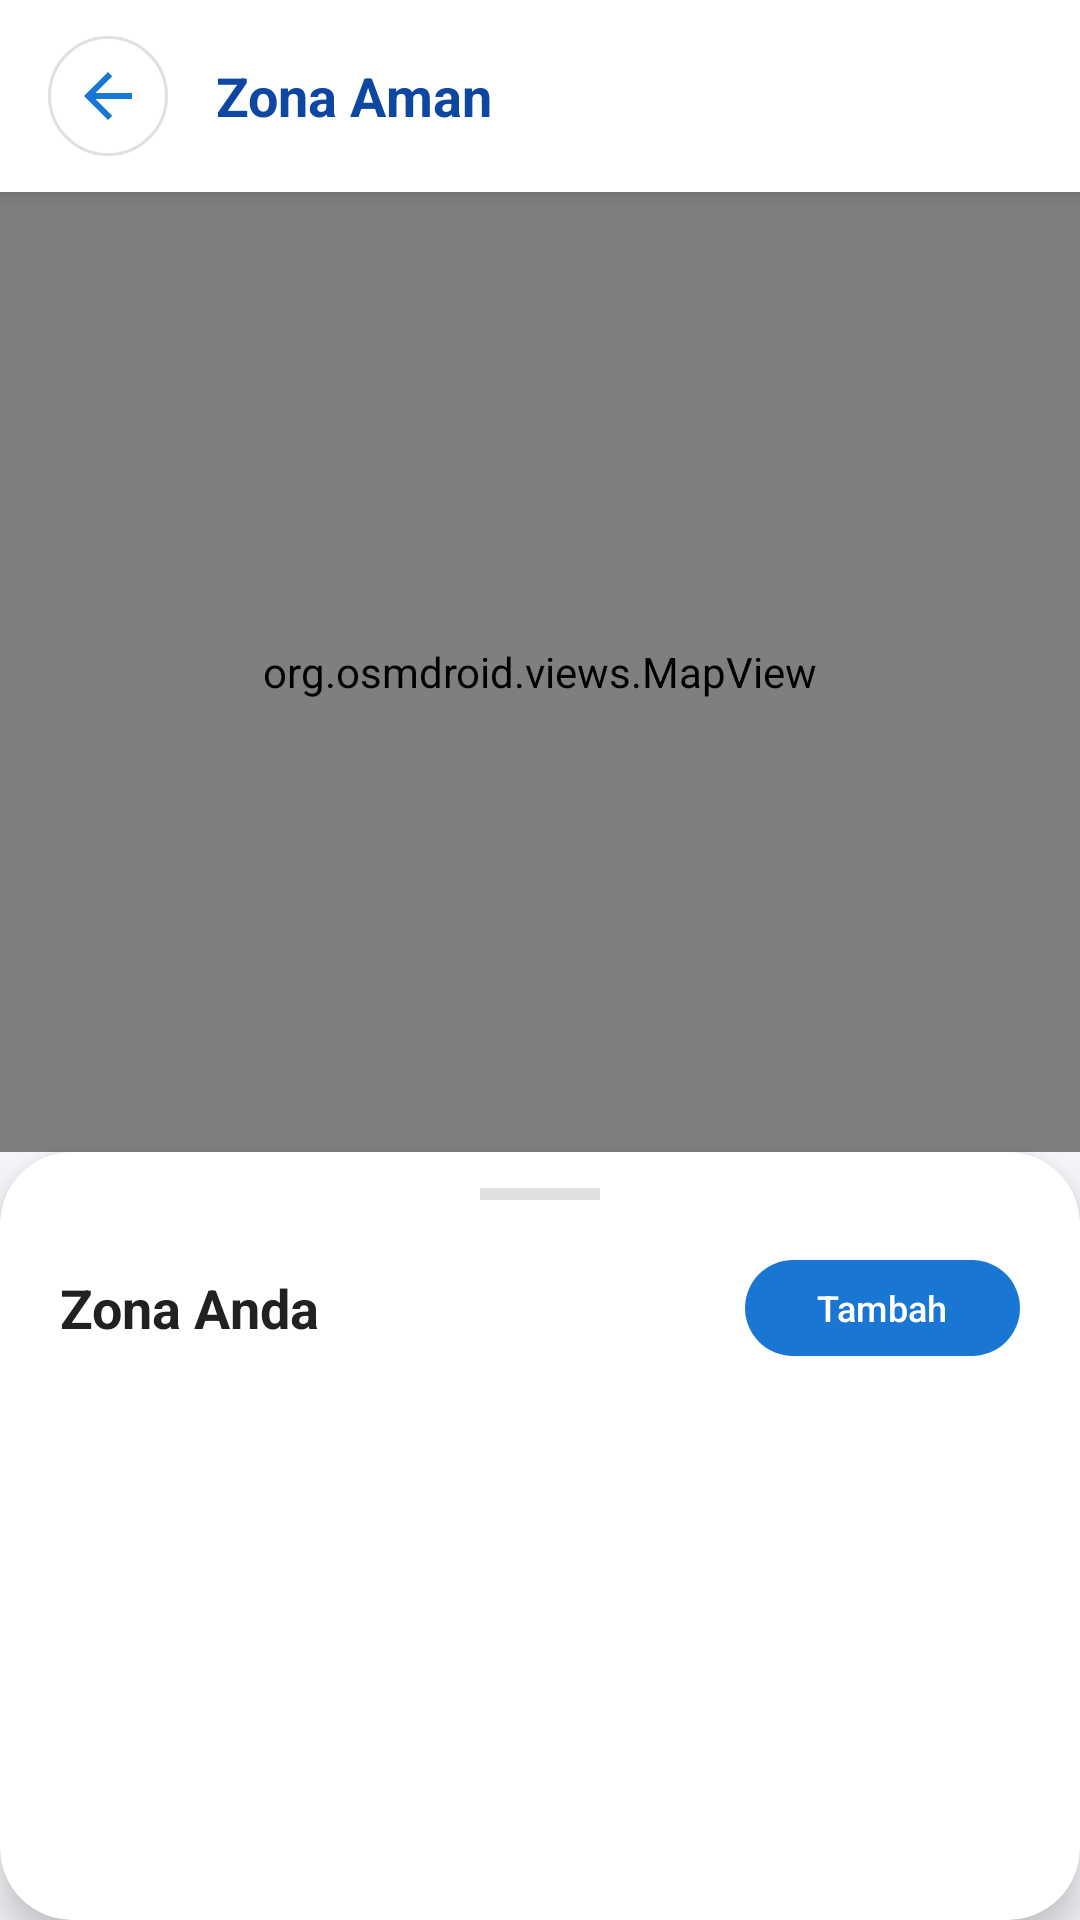

Named icons in this screenshot (1080×1920) and their centers, point (x, y):
Kembali: point (108, 96)
